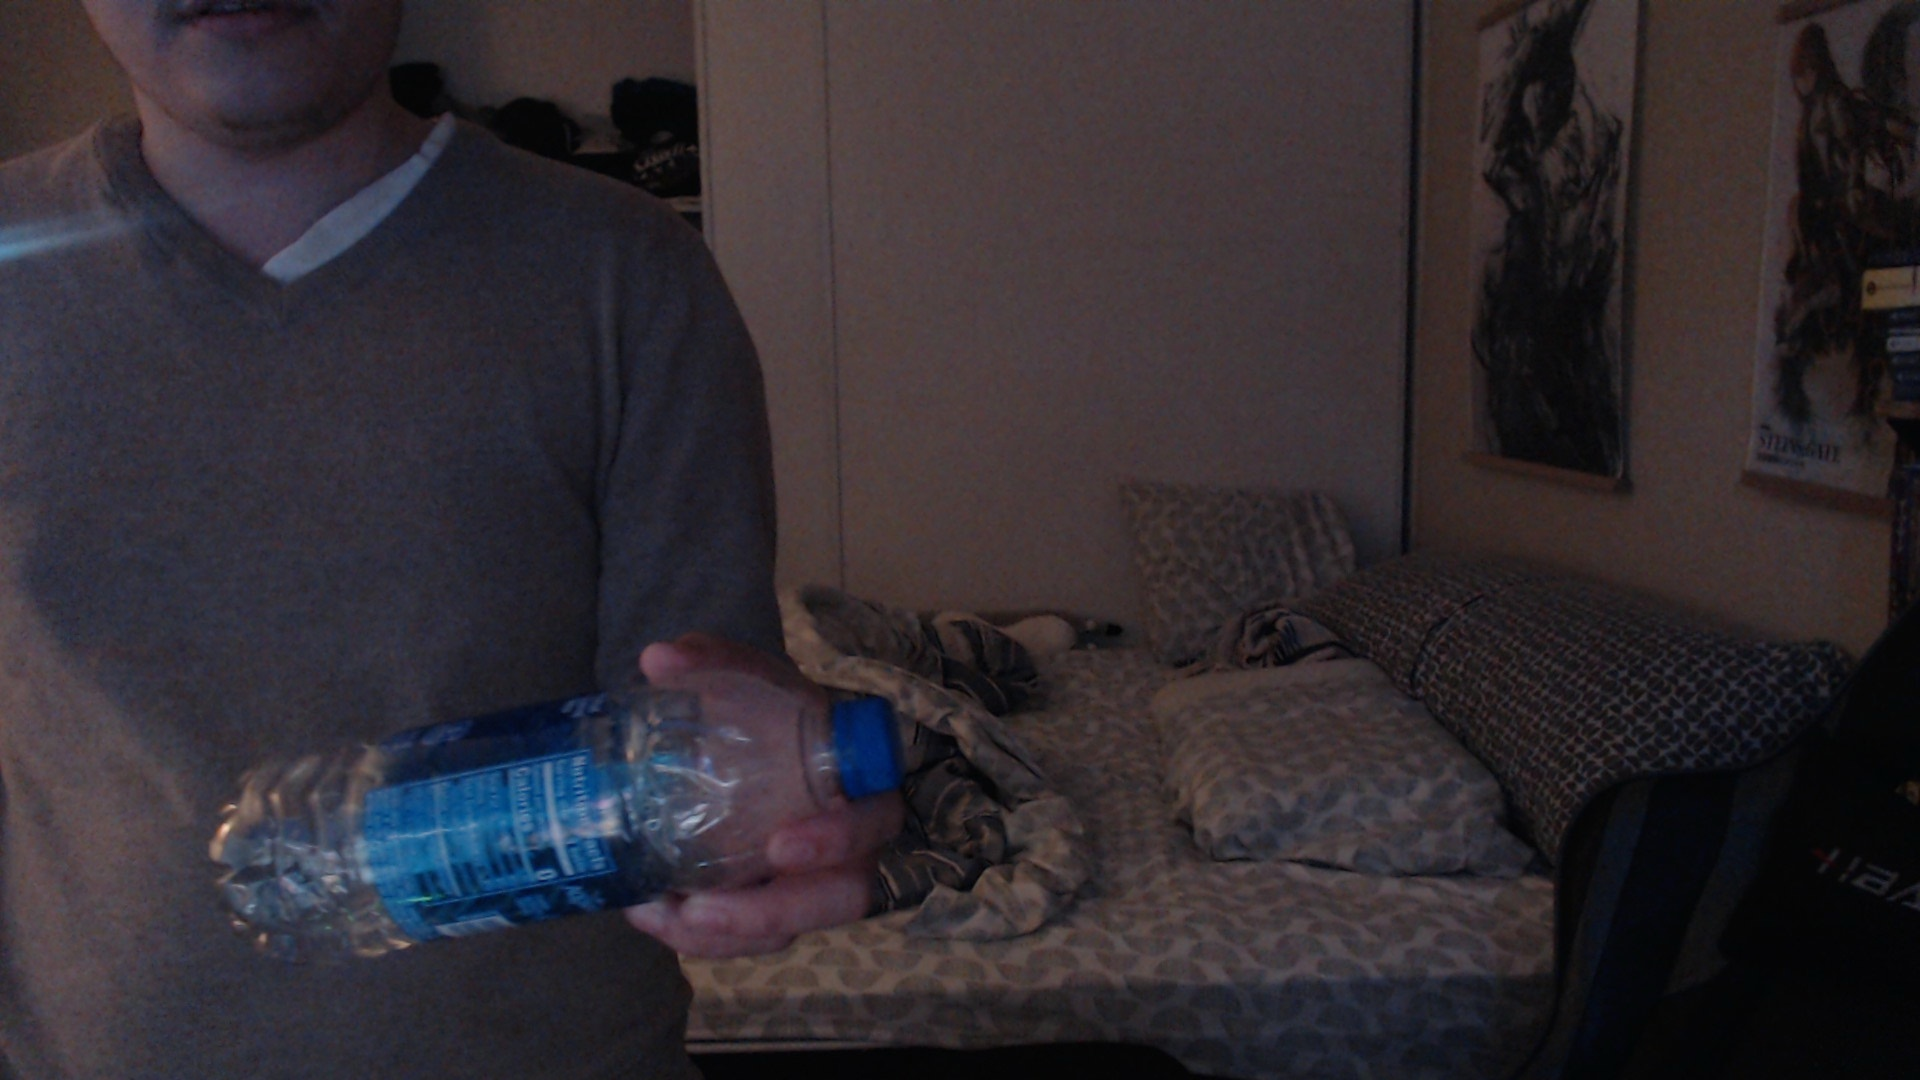bottle: (204, 669, 907, 971)
